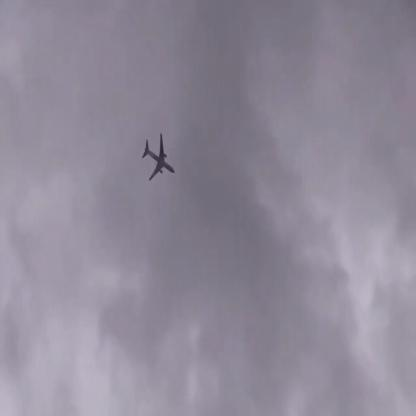CIV_Plane: (141, 134, 176, 180)
